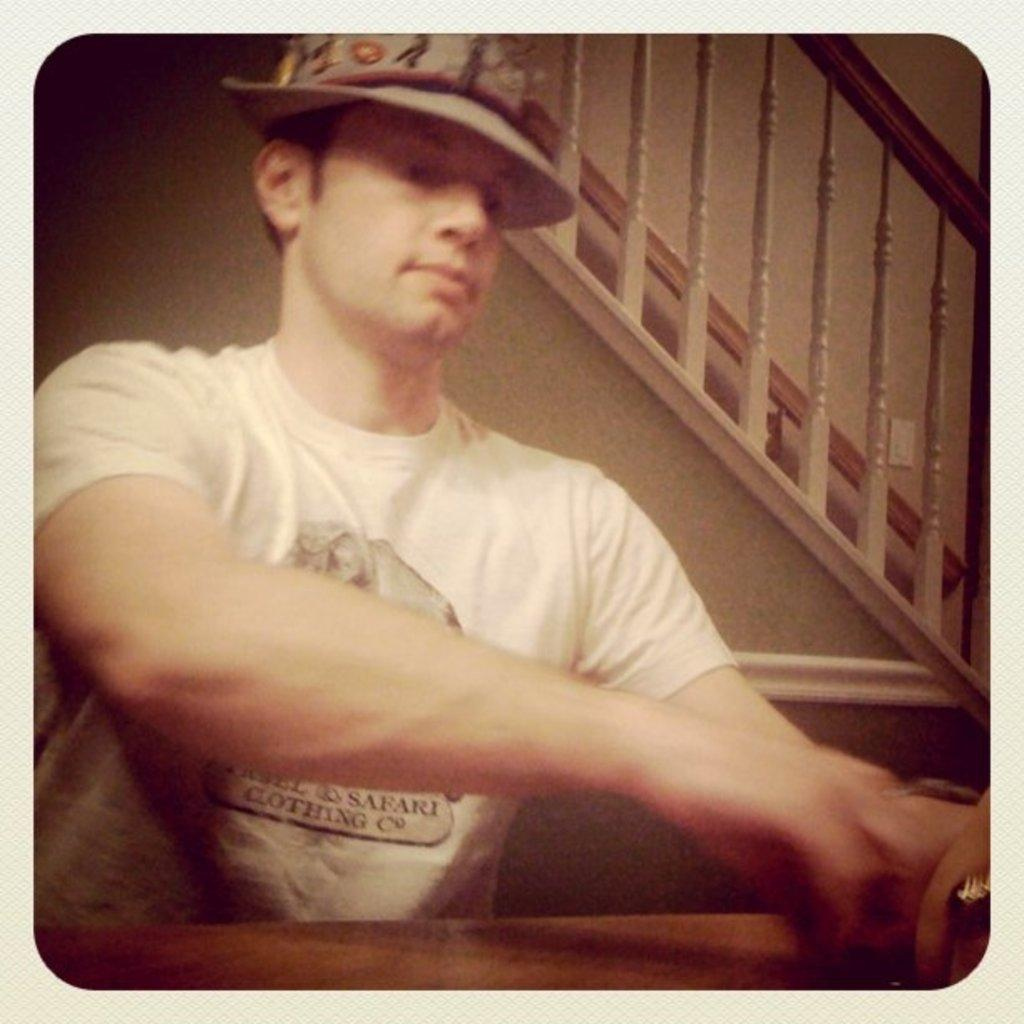Hat: (224, 34, 576, 236)
